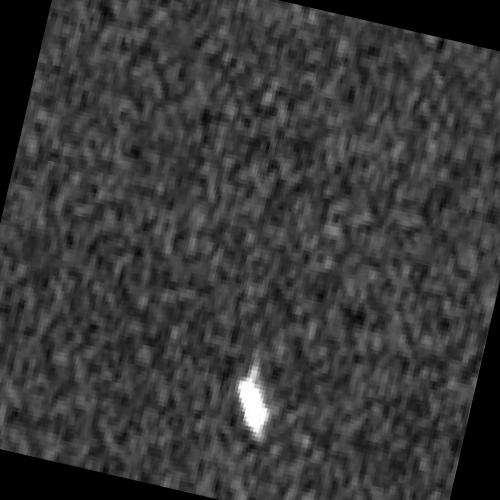ship: (235, 372, 269, 436)
